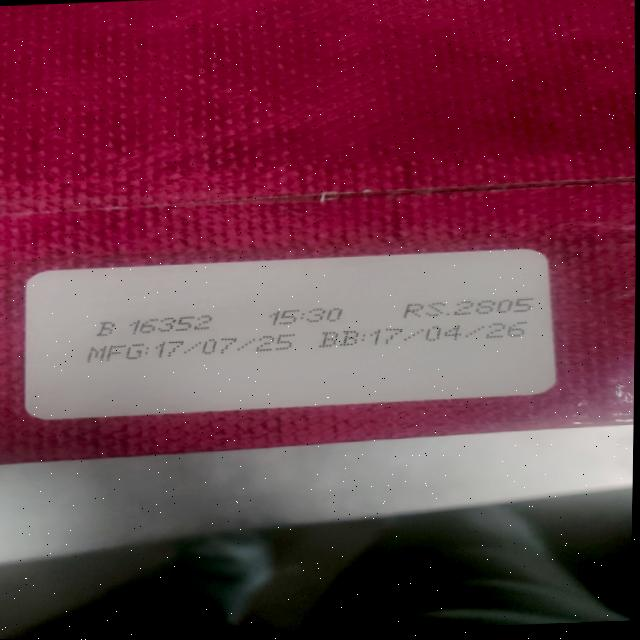BB: (319, 319, 533, 347)
Batch: (93, 310, 216, 337)
MFG: (83, 332, 302, 366)
RS: (399, 295, 536, 321)
TimeStamp: (266, 304, 350, 328)
